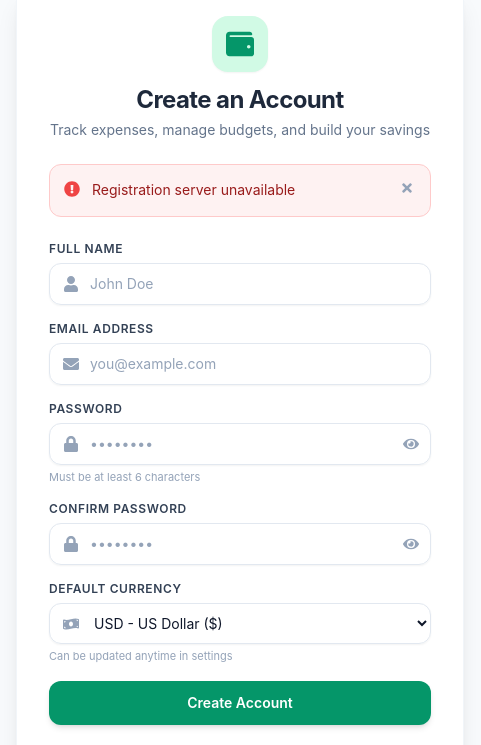
Test: RegisterPage Component › dismisses server error alert banner when close button is clicked
The image size is (481, 745).
Expected: the message "Registration server unavailable" is shown, [49,164,431,217]
Click the button named "close alert": [407, 188] box [394,175,420,201]
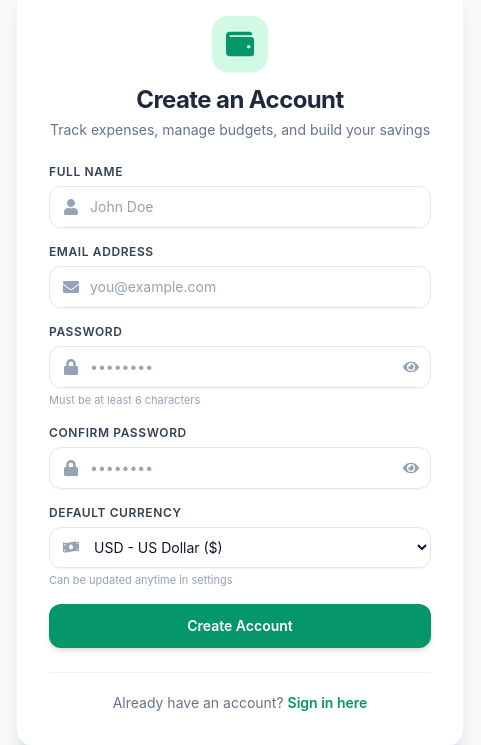
Now the message with test id "alert-banner" is gone
